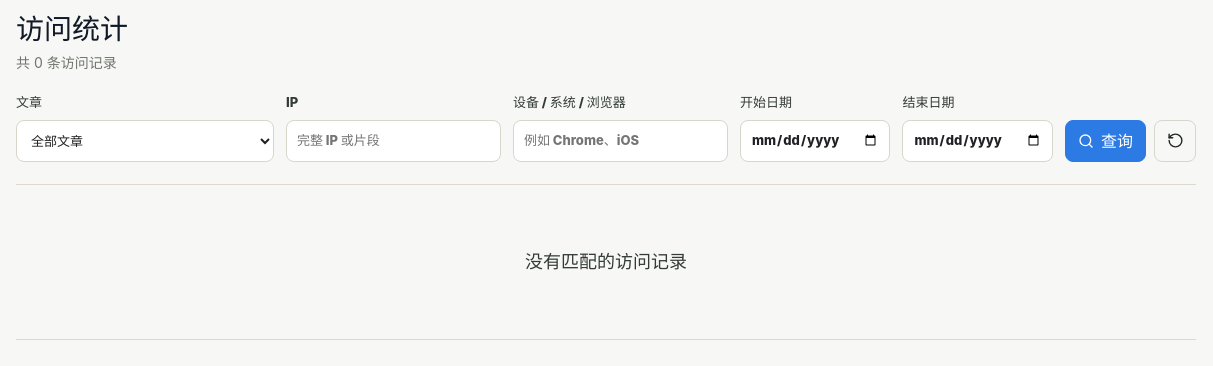
Scenario: StatisticsPage request lifecycle › keeps the newer query result when an older request resolves later
Expected: the heading "没有匹配的访问记录" is shown, [525,248,687,275]
In the field labelled "IP": (394, 140) [286,120,501,162], type "old"
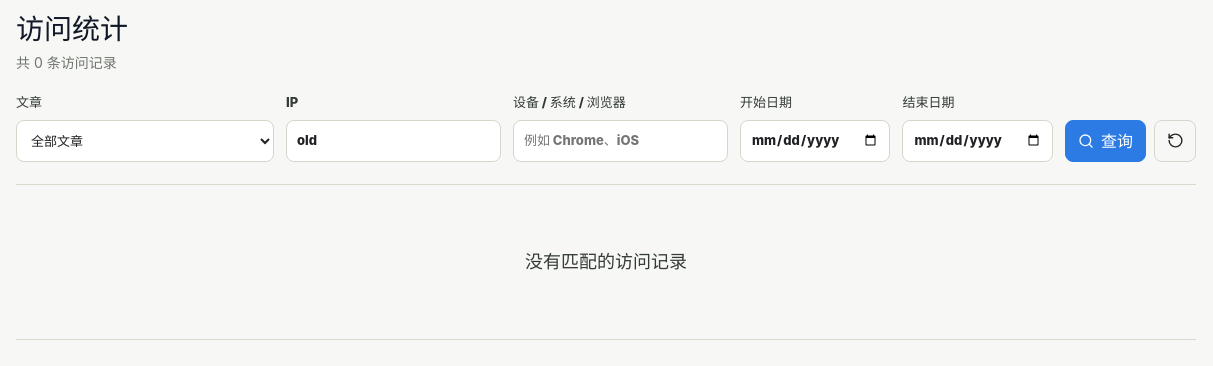
Submit the form, box [16,93,1196,162]
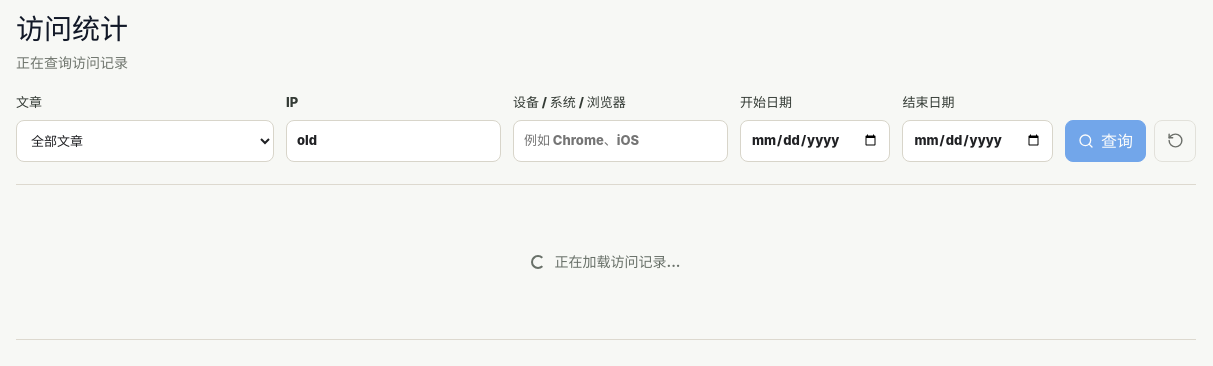
Replace the text in the field labelled "IP" with "new": (394, 140) [286,120,501,162]
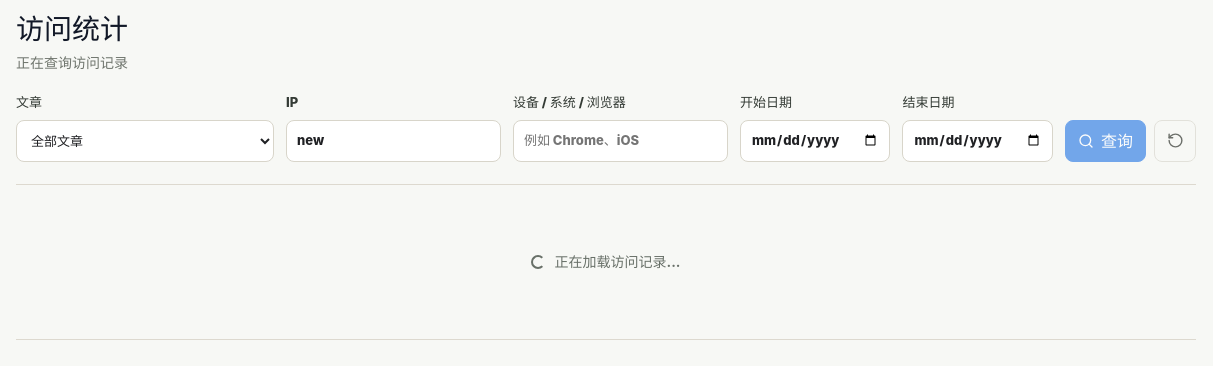
Submit the form, box [16,93,1196,162]
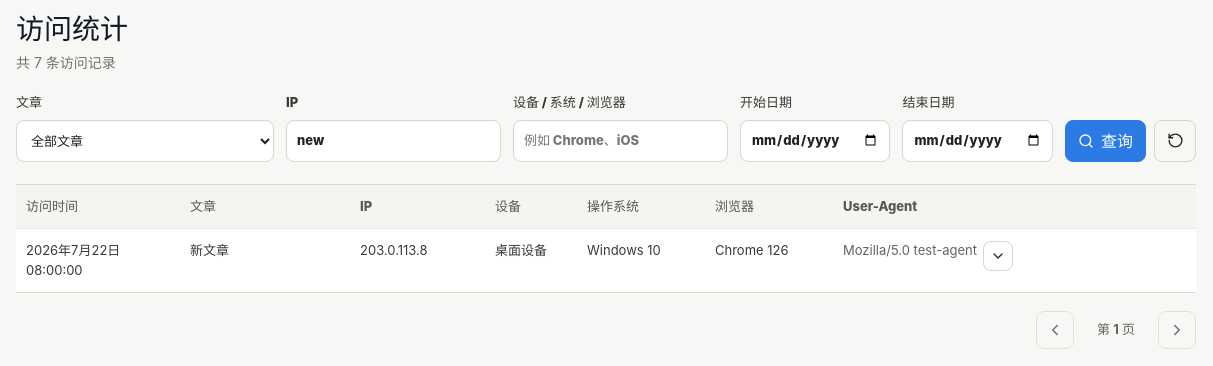
Now the text "新文章" is shown, box [180,228,350,292]
Now the text "共 7 条访问记录" is shown, box [16,52,128,73]
